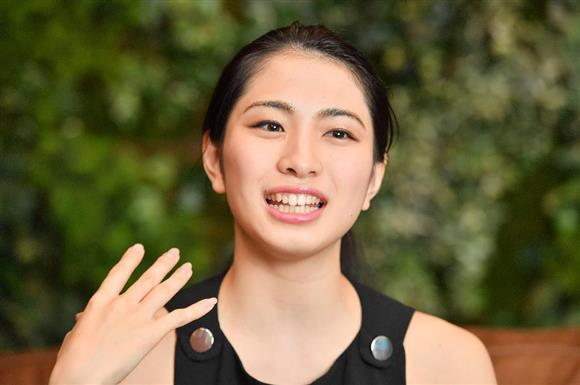face: (200, 48, 388, 262)
hand: (54, 243, 218, 385)
